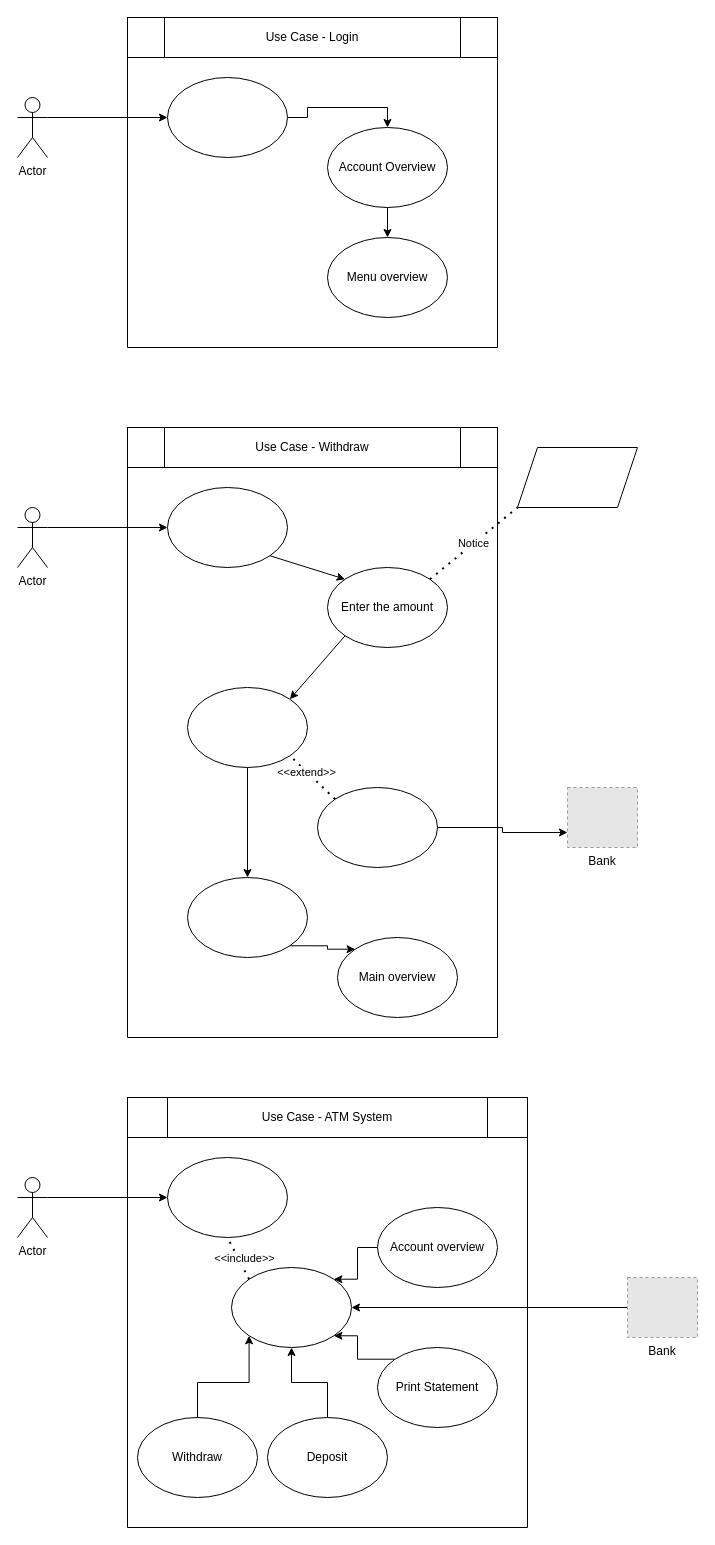
The diagram is 715 pixels wide and 1545 high, and some of its shapes have lost their labels. Grey dashed boxes stand in for pictures. Each missing label, with the centre of its shape:
"Confirm the amount" goes at (x=247, y=727).
"Enter Account credentials" goes at (x=227, y=117).
"Login" goes at (x=227, y=1197).
"max 10.000€" goes at (x=577, y=477).
"Select withdraw function" goes at (x=227, y=527).
"Transaction" goes at (x=291, y=1307).
"Validate the amount" goes at (x=377, y=827).
"withdraw the money" goes at (x=247, y=917).
